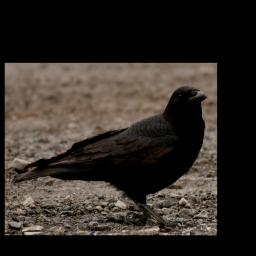Crow: (11, 85, 207, 229)
